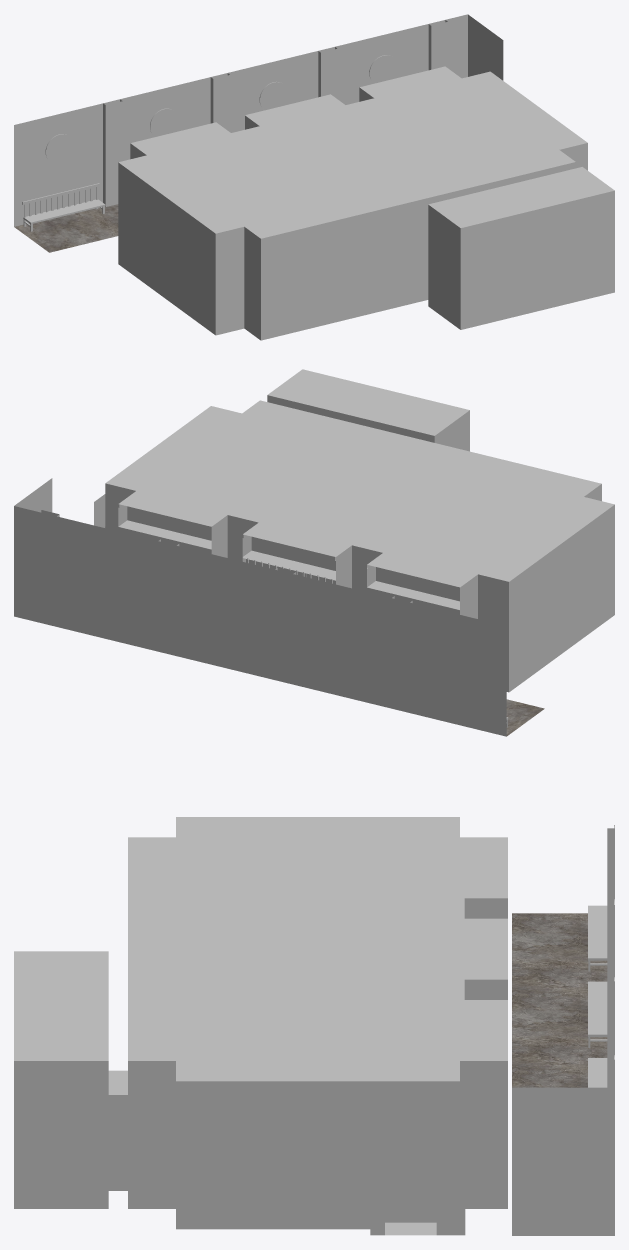
The model's file is ExportLocationAll_02.FBX.
3 views of the same model, one above another, from view 1: azimuth 30°, elevation 25°; view 2: azimuth 150°, elevation 25°; view 3: azimuth 270°, elevation 25° (orthographic). The views are drawn at different scales.
Visible parts, largest first — view 1: classroom_walls, classroom_ceiling, garden_colums, garden_colums001, garden_floor, garden_pics, garden_benches; view 2: garden_colums, classroom_ceiling, classroom_walls, garden_floor; view 3: classroom_ceiling, classroom_walls, garden_colums, garden_floor, classroom__secret_door, garden_benches, garden_colums001.
Boxes of the visible parts, x1=… form: classroom_walls: x1=118, y1=87, x2=614, y2=340; classroom_ceiling: x1=119, y1=66, x2=587, y2=238; garden_colums: x1=14, y1=14, x2=503, y2=226; garden_colums001: x1=103, y1=20, x2=447, y2=206; garden_floor: x1=14, y1=204, x2=118, y2=252; garden_pics: x1=45, y1=55, x2=397, y2=163; garden_benches: x1=22, y1=183, x2=105, y2=231; garden_colums: x1=14, y1=478, x2=506, y2=736; classroom_ceiling: x1=105, y1=400, x2=614, y2=587; classroom_walls: x1=94, y1=369, x2=614, y2=692; garden_floor: x1=506, y1=699, x2=544, y2=736; classroom_ceiling: x1=128, y1=817, x2=507, y2=1081; classroom_walls: x1=14, y1=898, x2=507, y2=1235; garden_colums: x1=512, y1=1087, x2=614, y2=1235; garden_floor: x1=512, y1=913, x2=607, y2=1087; classroom__secret_door: x1=385, y1=1148, x2=436, y2=1222; garden_benches: x1=588, y1=905, x2=607, y2=1087; garden_colums001: x1=607, y1=828, x2=614, y2=1087.
Bounding box in the file's own units: 1586 × 1249 × 376.
